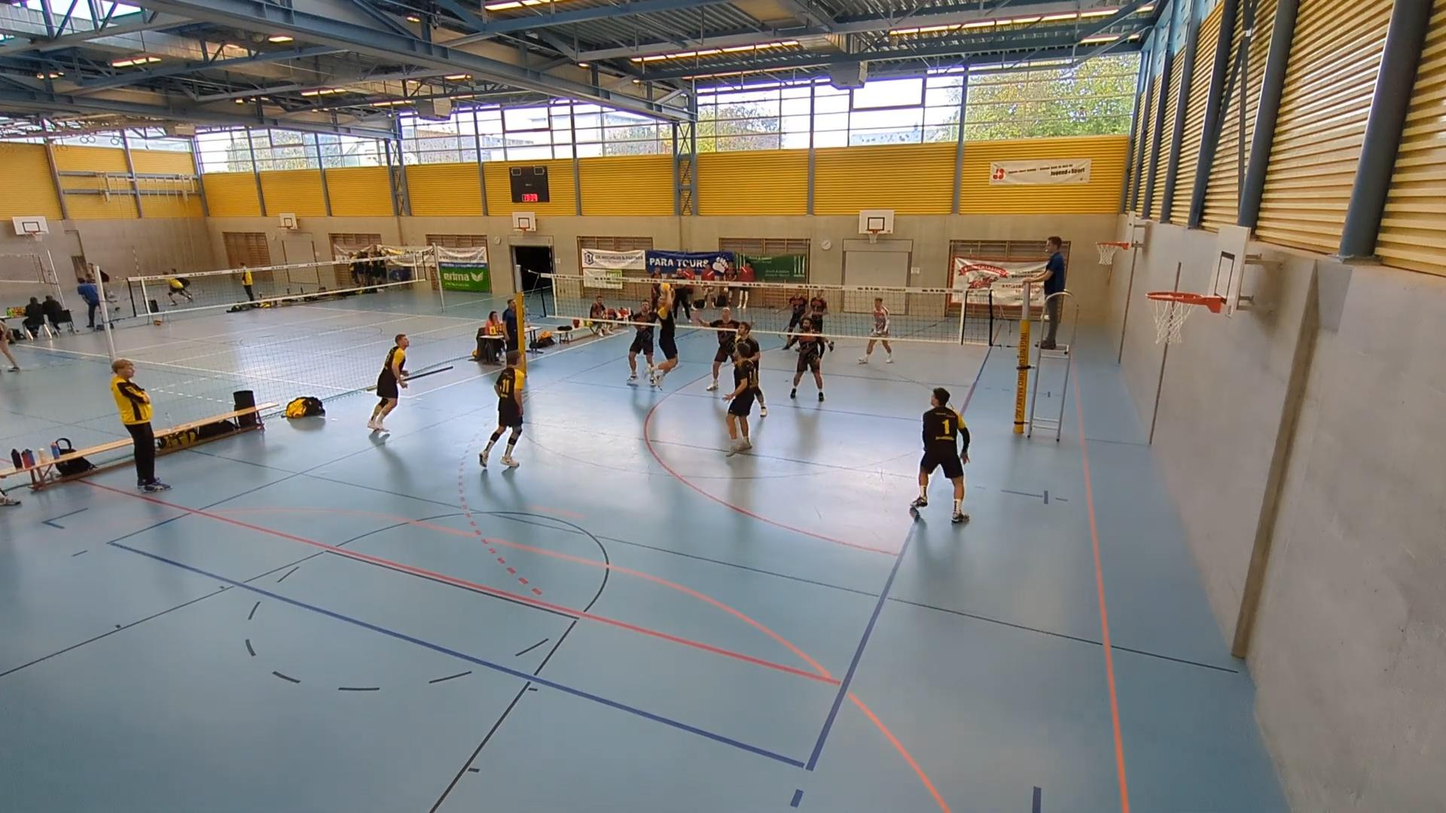alzata: (649, 279, 680, 389)
